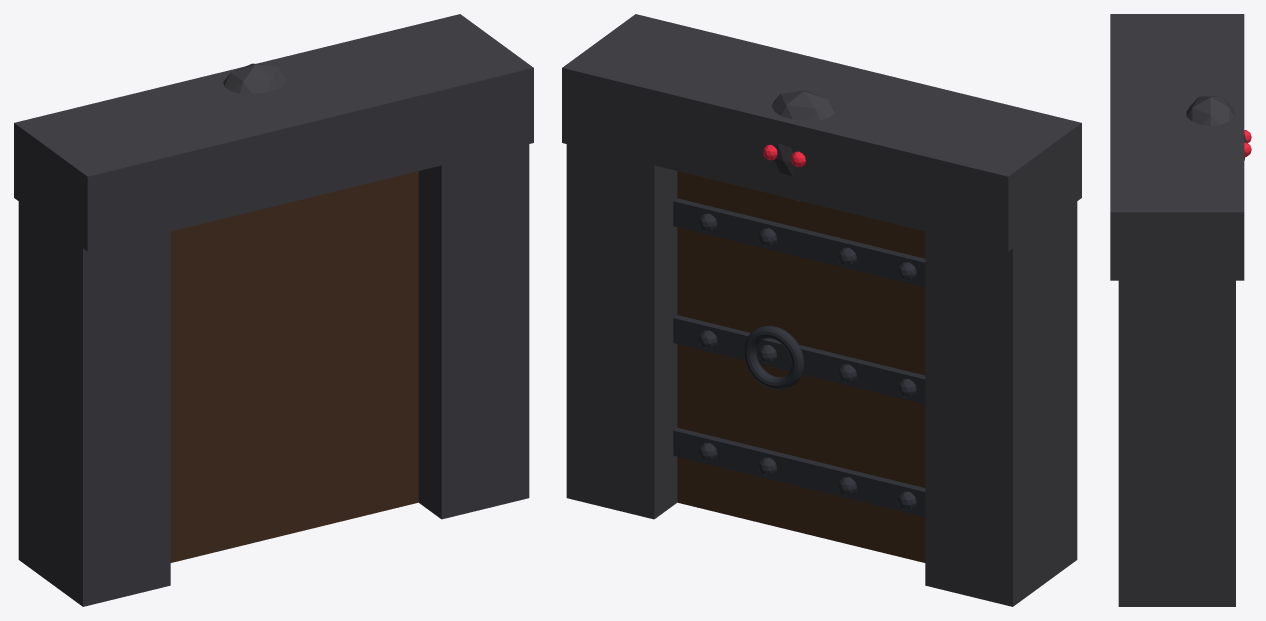
Rendered from dungeon_modular_door.obj.
3 views of the same model, side by side, from view 1: azimuth 30°, elevation 25°; view 2: azimuth 150°, elevation 25°; view 3: azimuth 270°, elevation 25° (orthographic). The views are drawn at different scales.
Visible parts, largest first — view 1: Cube.003, Cube.002, Cube, Cube.001, Icosphere; view 2: Cube.002, Cube.003, Cube, Cube.001, Cube.006, Cube.004, Cube.005, Torus, Icosphere; view 3: Cube.001, Cube.002, Icosphere.
Part boxes in pixels (x1,y1,x2,y2): Cube.003: [170, 171, 418, 562]; Cube.002: [14, 14, 533, 251]; Cube: [18, 185, 170, 606]; Cube.001: [418, 144, 529, 519]; Icosphere: [223, 63, 287, 93]; Cube.002: [562, 14, 1081, 251]; Cube.003: [677, 171, 925, 562]; Cube: [925, 185, 1077, 606]; Cube.001: [566, 144, 677, 519]; Cube.006: [673, 198, 925, 287]; Cube.004: [673, 427, 925, 516]; Cube.005: [673, 315, 925, 404]; Torus: [743, 326, 804, 389]; Icosphere: [771, 90, 835, 202]; Cube.001: [1118, 265, 1235, 606]; Cube.002: [1110, 14, 1244, 280]; Icosphere: [1186, 96, 1246, 160].
Bounding box in the file's own units: 11.2 × 10.82 × 3.38.
